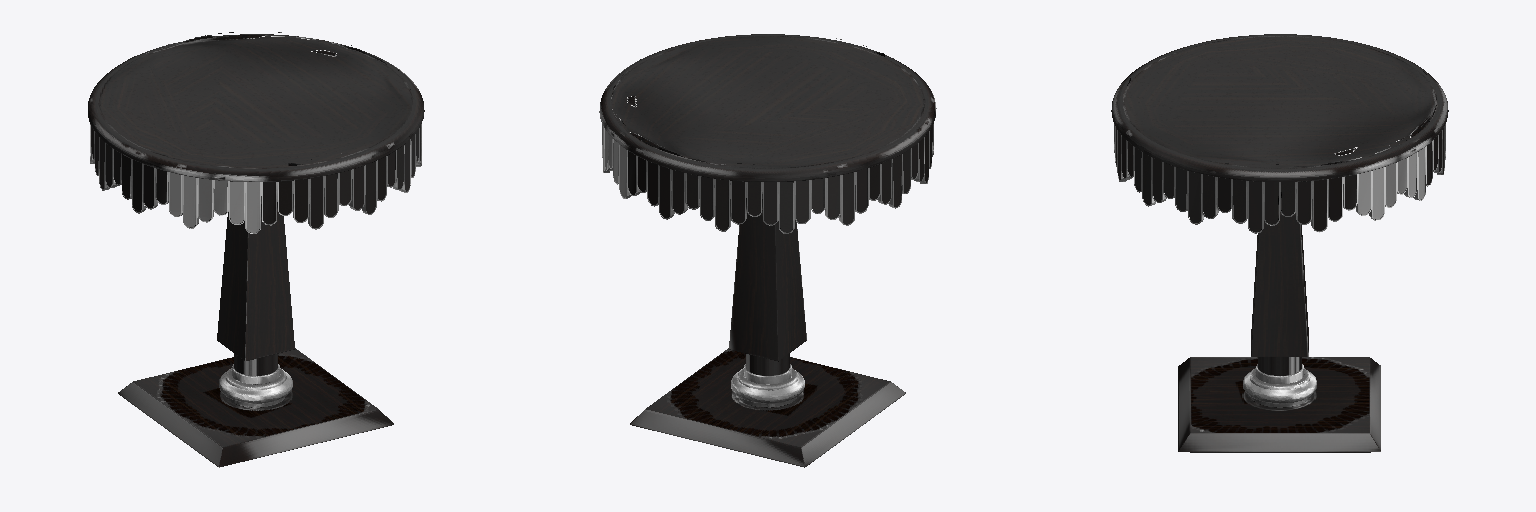
The picture shows the model from 3 angles: view 1: azimuth 30°, elevation 25°; view 2: azimuth 150°, elevation 25°; view 3: azimuth 270°, elevation 25°; orthographic projection.
Parts seen in each view (by area): view 1: solid_002, solid_001, glass_001; view 2: solid_002, solid_001; view 3: solid_002, solid_001.
Part boxes in pixels (left/top/right/bottom): solid_002: left=88, top=34, right=424, bottom=467; solid_001: left=90, top=124, right=421, bottom=407; glass_001: left=128, top=32, right=410, bottom=165; solid_002: left=599, top=34, right=936, bottom=467; solid_001: left=602, top=124, right=933, bottom=407; solid_002: left=1111, top=34, right=1448, bottom=452; solid_001: left=1114, top=124, right=1445, bottom=407.
Size of the model in its own units: 0.4984 by 0.5173 by 0.4984.
Materials: 1 (1 with a texture image).